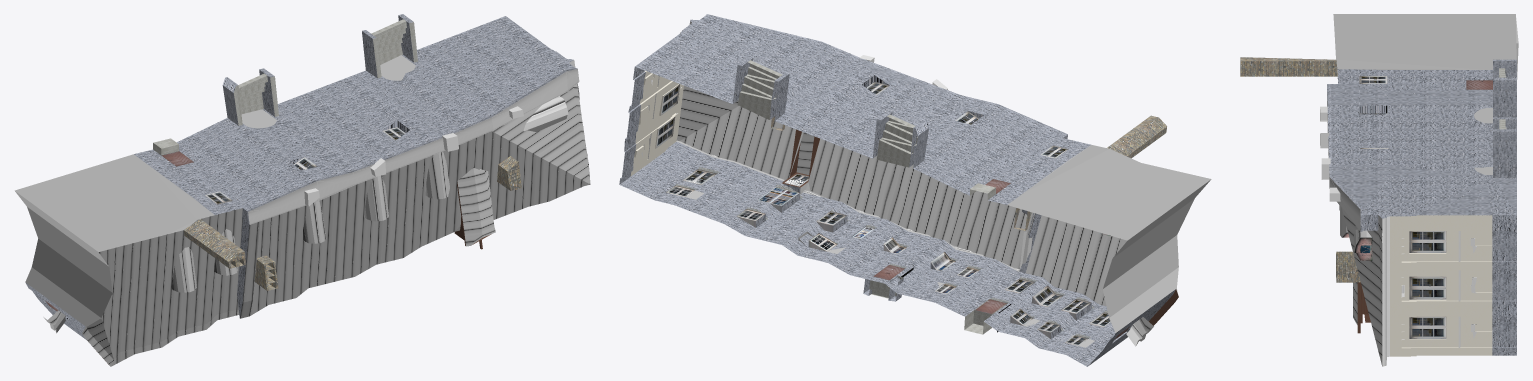
The model's file is Bremeni-kaik_1-origo.obj.
3 views of the same model, side by side, from view 1: azimuth 30°, elevation 25°; view 2: azimuth 150°, elevation 25°; view 3: azimuth 270°, elevation 25° (orthographic). The views are drawn at different scales.
Parts seen in each view (by area): view 1: brk1, xxx; view 2: brk1, xxx; view 3: brk1, xxx.
Part boxes in pixels (left/top/right/bottom): brk1: left=25, top=14, right=590, bottom=366; xxx: left=14, top=154, right=214, bottom=333; brk1: left=619, top=14, right=1178, bottom=366; xxx: left=1007, top=145, right=1211, bottom=332; brk1: left=1240, top=57, right=1516, bottom=366; xxx: left=1333, top=14, right=1518, bottom=79.
Bounding box in the file's own units: 39.75 × 16.5 × 17.18.
